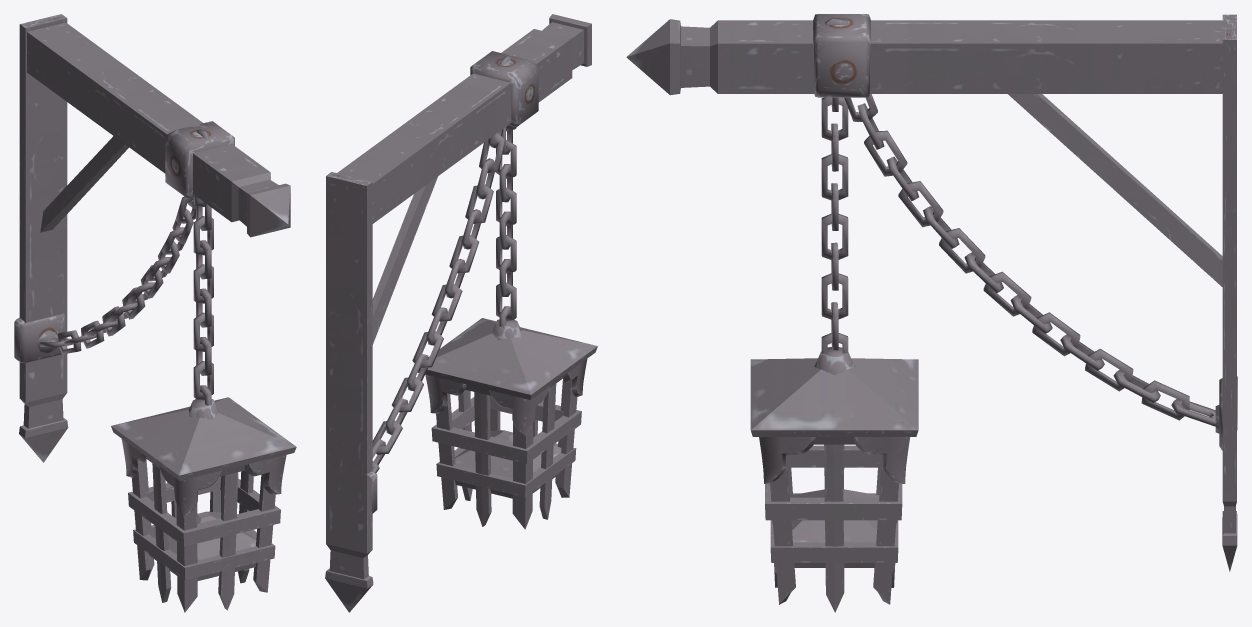
File: Lantern_Wall.gltf
3 renders of one model, left to right at view 1: azimuth 30°, elevation 25°; view 2: azimuth 150°, elevation 25°; view 3: azimuth 270°, elevation 25°, orthographic. The views are drawn at different scales.
Parts seen in each view (by area): view 1: Lantern_Wall; view 2: Lantern_Wall; view 3: Lantern_Wall.
Boxes of the visible parts, box(x1,y1,x2,y2) form: Lantern_Wall: box(14, 14, 296, 612); Lantern_Wall: box(325, 14, 597, 612); Lantern_Wall: box(626, 14, 1237, 612).
Bounding box in the file's own units: 0.3573 × 1.34 × 1.3.
1 material, 1 textured.
